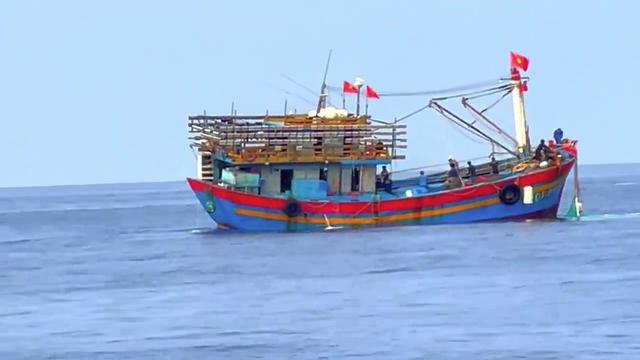Ship: (180, 80, 584, 233)
